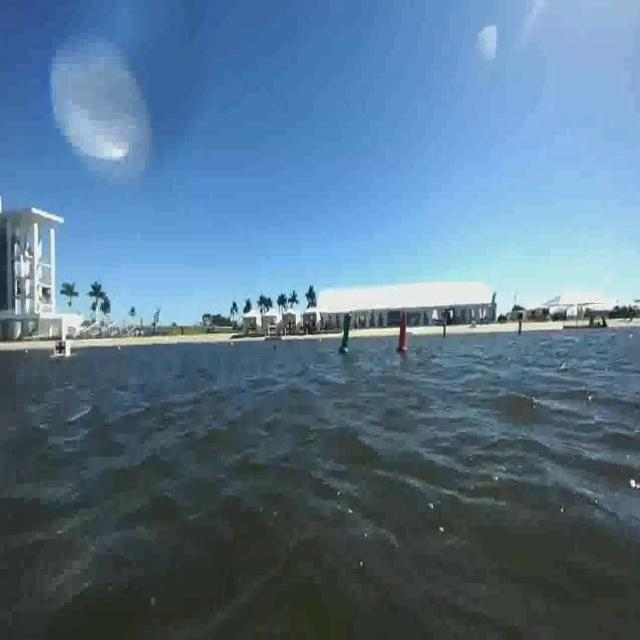green-column-buoy: (341, 314, 354, 356)
red-column-buoy: (397, 313, 412, 356)
